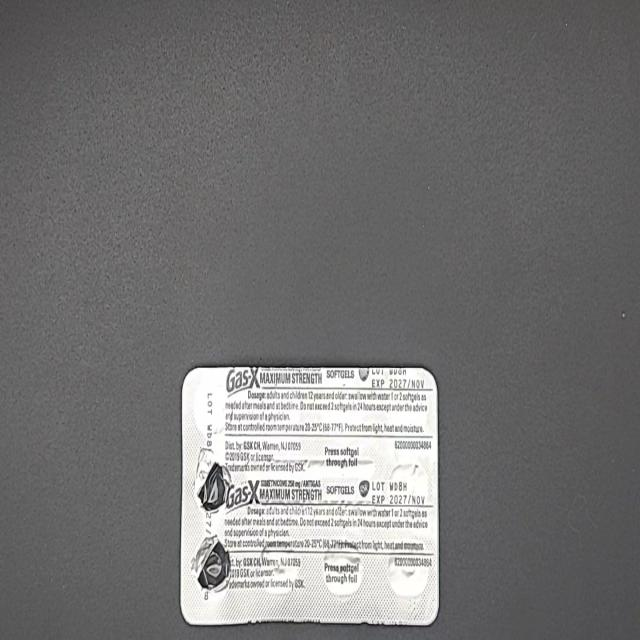defect: (191, 446, 232, 519), (189, 530, 233, 595)
